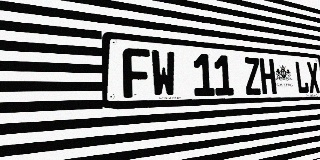1: (192, 53, 215, 96), (213, 54, 234, 96)
F: (122, 47, 151, 98)
H: (259, 58, 277, 95)
L: (294, 61, 309, 94)
W: (150, 50, 177, 97)
X: (306, 62, 320, 93)
Z: (243, 57, 262, 95)
